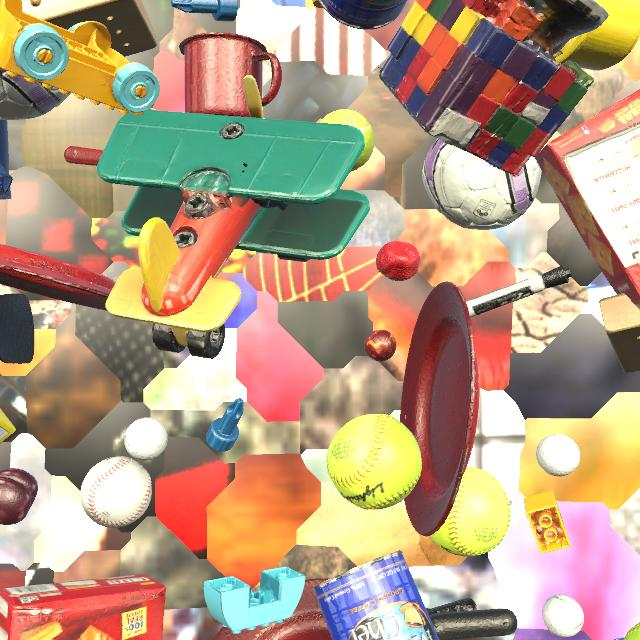ycb_002_master_chef_can: (313, 550, 439, 640), (319, 0, 407, 30)
ycb_003_cracker_box: (535, 89, 640, 310), (0, 574, 167, 640)
ycb_004_sugar_box: (0, 408, 16, 444)
ycb_006_mustard_bottle: (312, 0, 323, 8)
ycb_012_strawberry: (376, 241, 420, 281)
ycb_018_plum: (0, 468, 38, 525)
